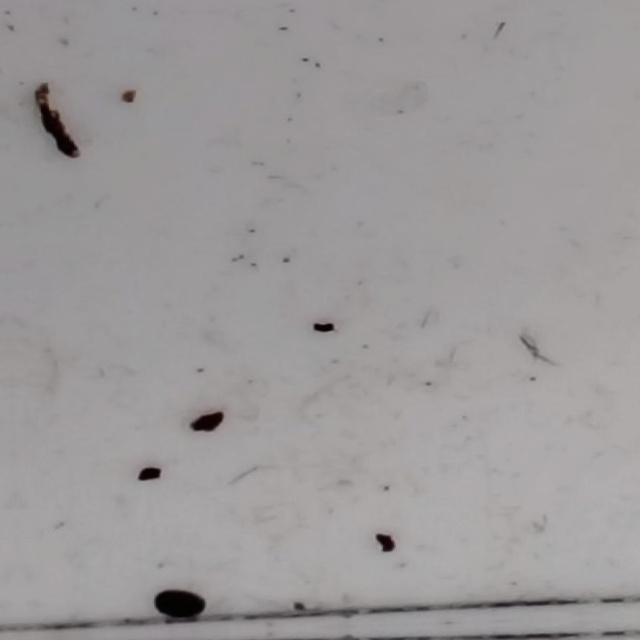varroa: (152, 589, 211, 622)
